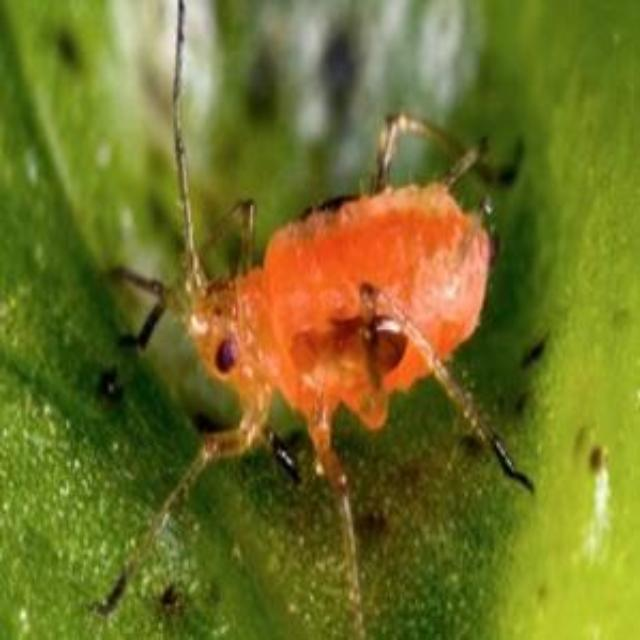Green peach aphid: (26, 8, 578, 628)
